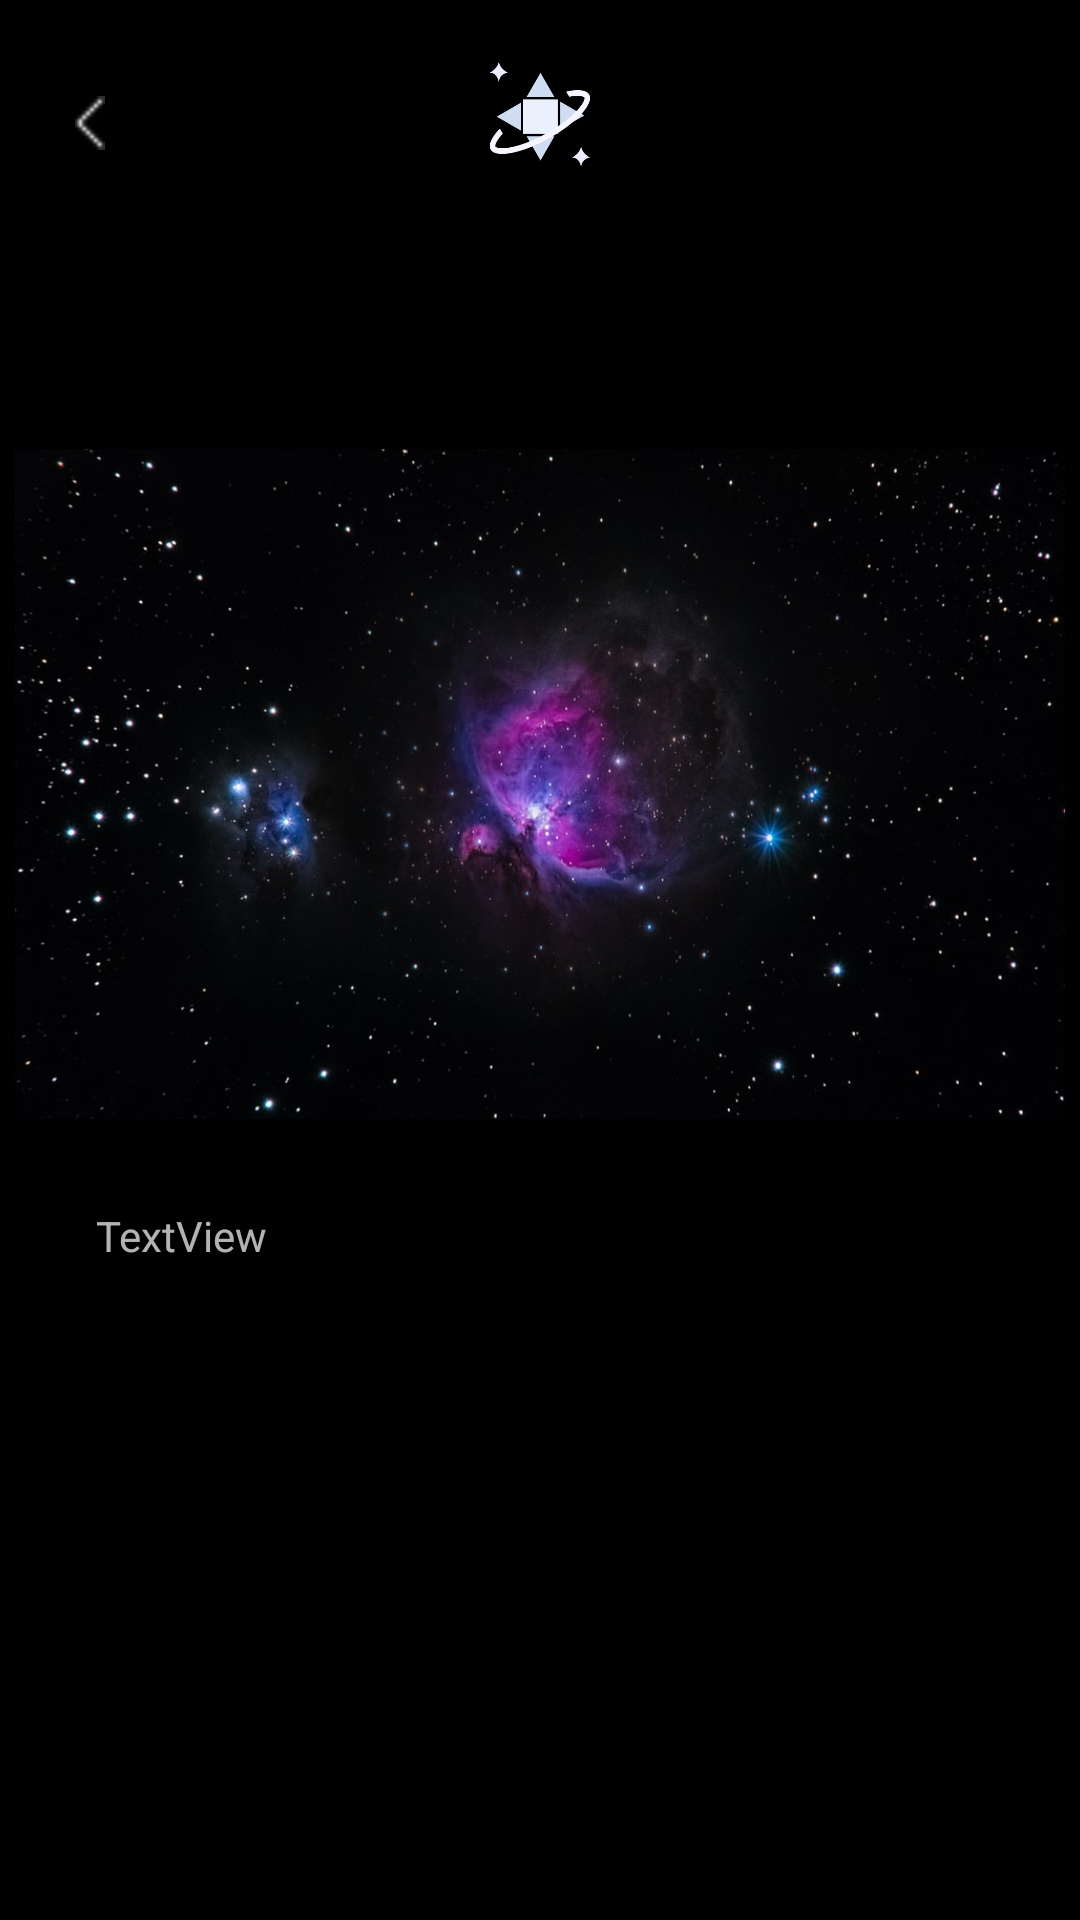

Icons on this 1080x1920 Android screen, each with its box as (x1, y1, x2, y2):
back: (75, 96, 105, 150)
